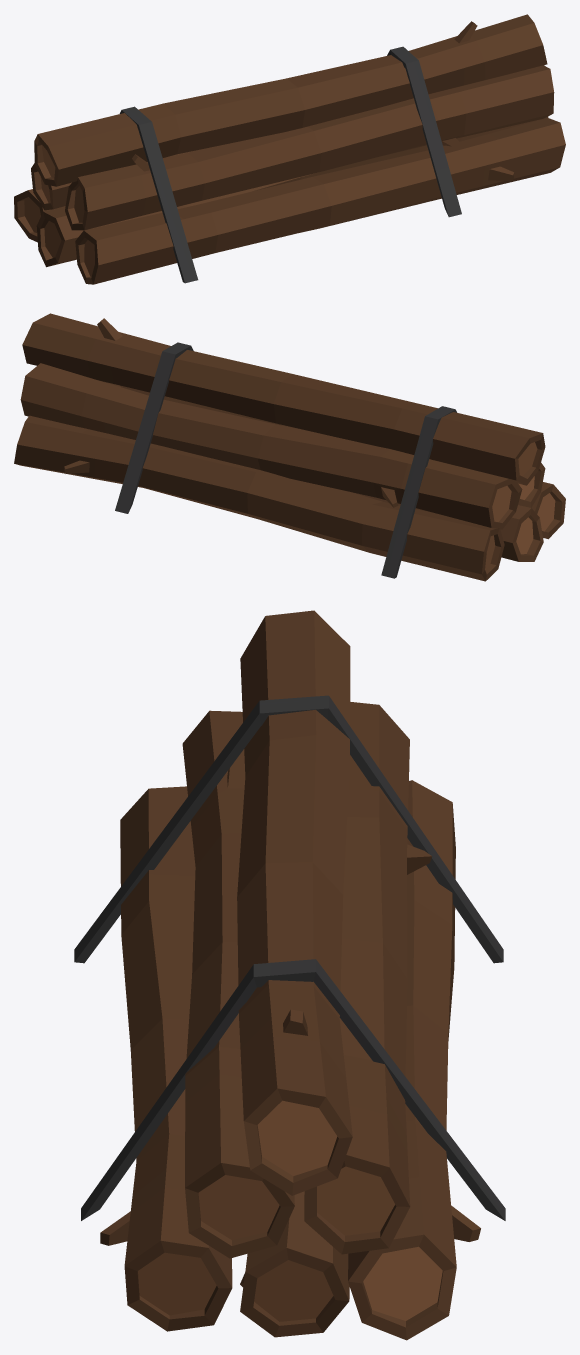
Rendered from SM_Log_Pack_02.fbx.
3 views of the same model, one above another, from view 1: azimuth 30°, elevation 25°; view 2: azimuth 150°, elevation 25°; view 3: azimuth 270°, elevation 25° (orthographic). The views are drawn at different scales.
Visible parts, largest first — view 1: SM_Log_Pack_02; view 2: SM_Log_Pack_02; view 3: SM_Log_Pack_02.
Part boxes in pixels (left/top/right/bottom): SM_Log_Pack_02: left=14, top=14, right=565, bottom=284; SM_Log_Pack_02: left=14, top=313, right=565, bottom=581; SM_Log_Pack_02: left=74, top=610, right=505, bottom=1340.
Size of the model in its own units: 543 by 148 by 203.
